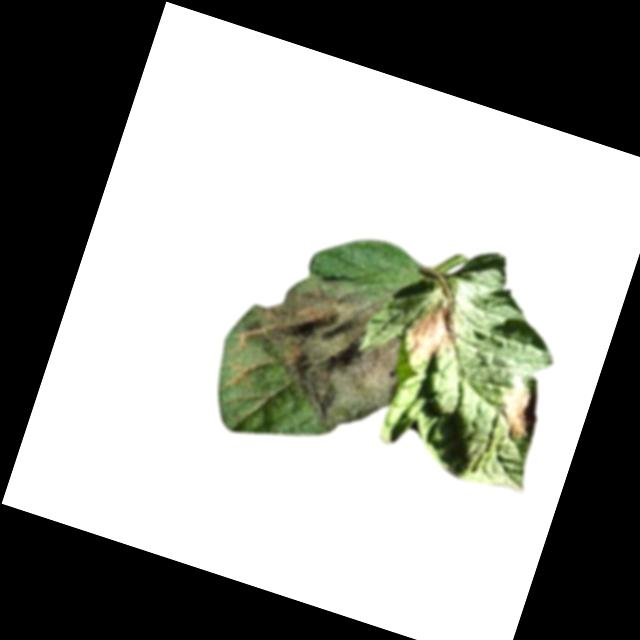Late_blight: (217, 246, 428, 450), (402, 298, 467, 371), (492, 381, 546, 447)
